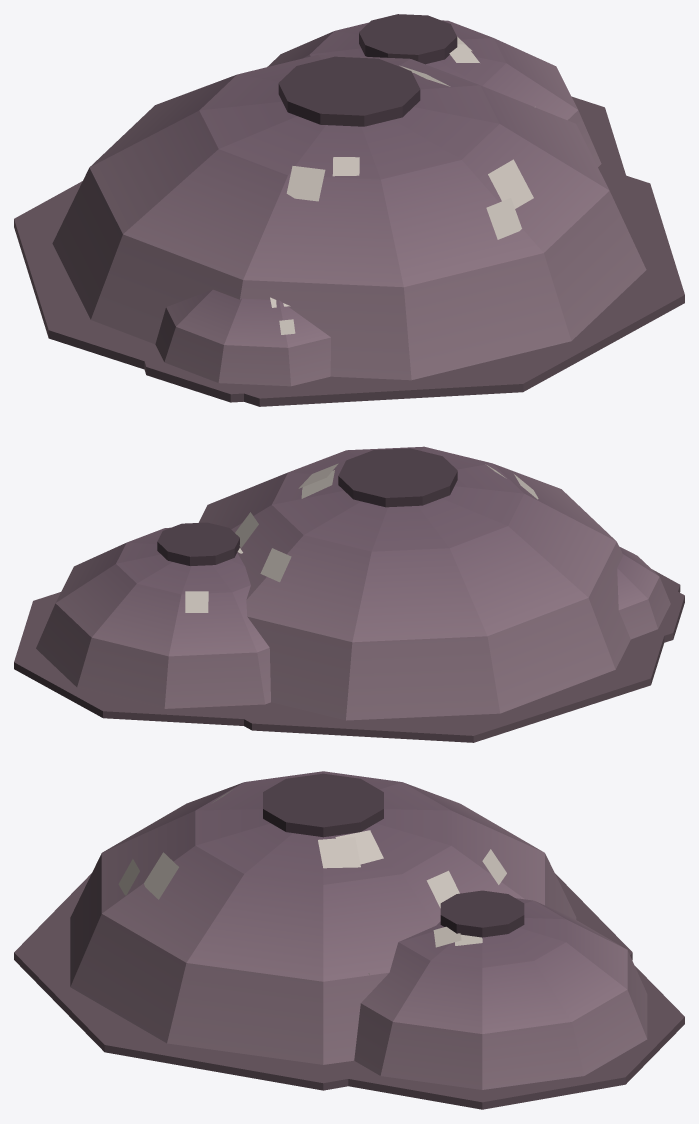
The model's file is spore_pod_v0.glb.
3 views of the same model, one above another, from view 1: azimuth 30°, elevation 25°; view 2: azimuth 150°, elevation 25°; view 3: azimuth 270°, elevation 25° (orthographic). The views are drawn at different scales.
Visible parts, largest first — view 1: world; view 2: world; view 3: world.
Part boxes in pixels (x1,y1,x2,y2): world: [14, 14, 684, 406]; world: [14, 446, 684, 742]; world: [14, 771, 684, 1109].
Size of the model in its own units: 0.9896 by 0.262 by 1.
